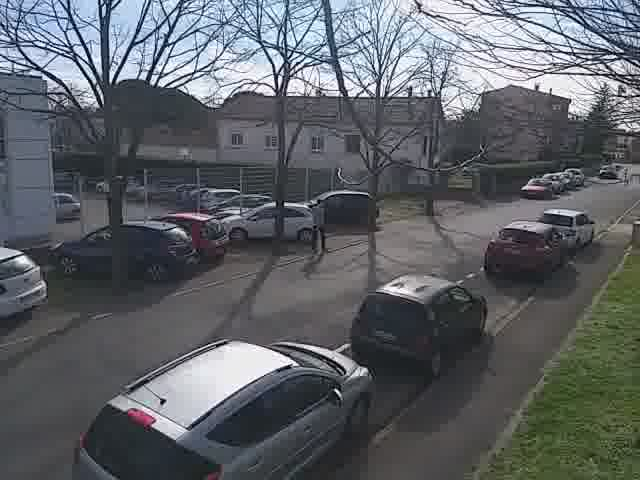persona: (303, 190, 336, 257)
